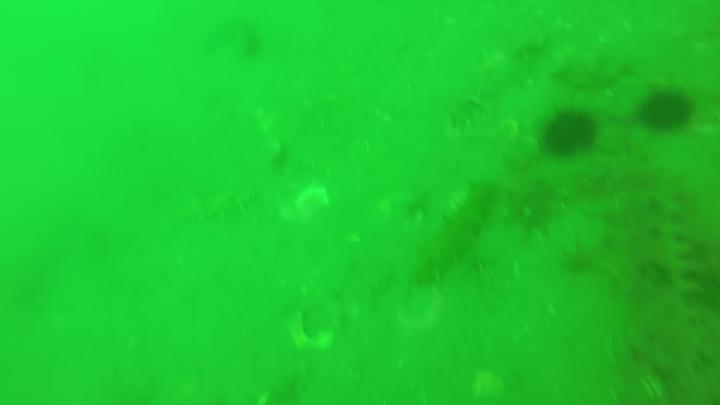echinus: (539, 110, 597, 159), (635, 92, 697, 130)
holothurian: (412, 174, 503, 291), (446, 26, 548, 128), (203, 186, 260, 218)
scallop: (294, 187, 330, 219)
